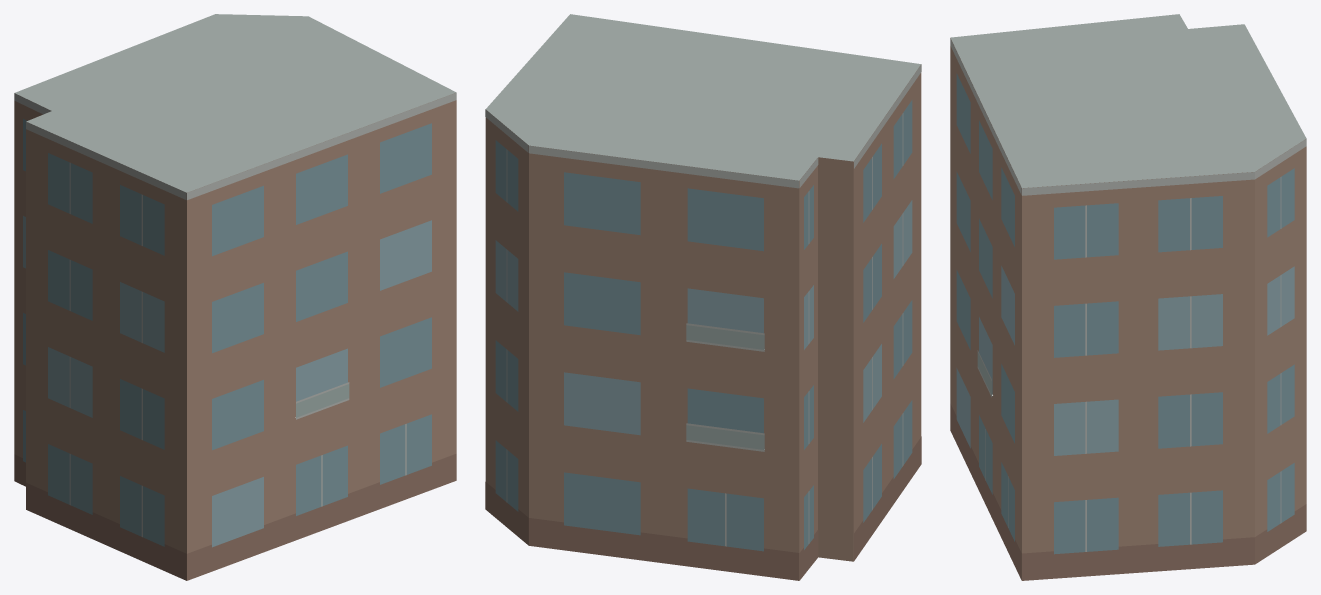
Rendered from survey-upis-32688994.glb.
The picture shows the model from 3 angles, left to right: view 1: azimuth 30°, elevation 25°; view 2: azimuth 150°, elevation 25°; view 3: azimuth 270°, elevation 25°; orthographic projection. The views are drawn at different scales.
Visible parts, largest first — view 1: survey-upis-32688994.tmp; view 2: survey-upis-32688994.tmp; view 3: survey-upis-32688994.tmp.
Part boxes in pixels (left/top/right/bottom): survey-upis-32688994.tmp: left=14, top=14, right=456, bottom=580; survey-upis-32688994.tmp: left=485, top=14, right=921, bottom=580; survey-upis-32688994.tmp: left=950, top=14, right=1306, bottom=580.
Size of the model in its own units: 11.9 by 12.5 by 10.29.
